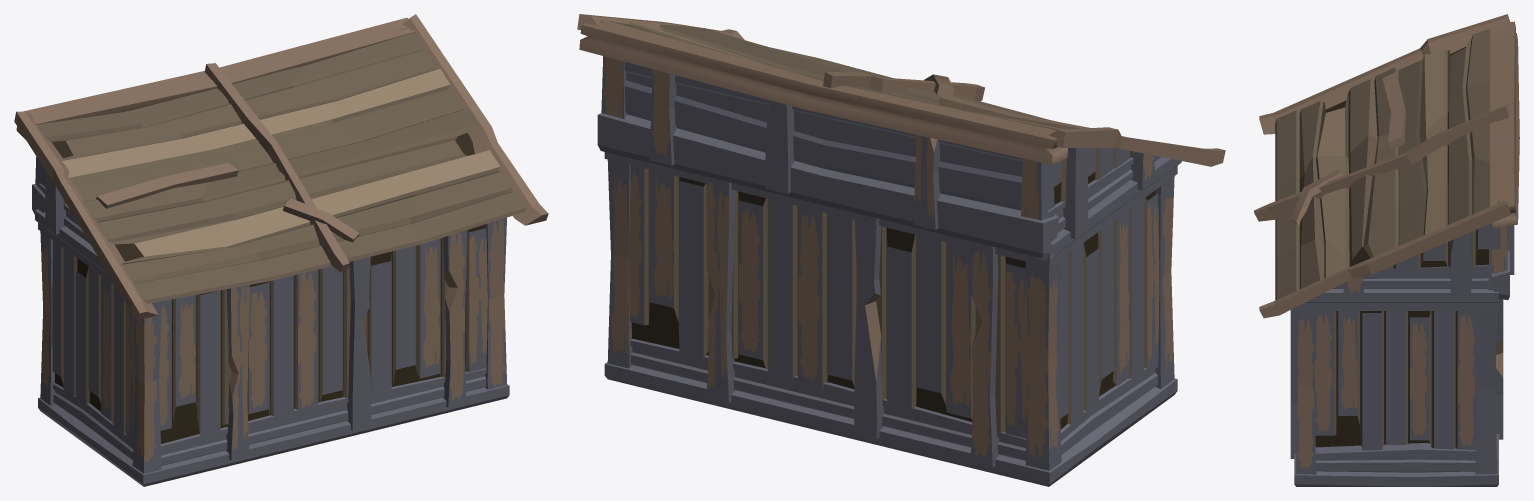
Rendered from SM_Bld_Shanty_SideAttachment_01.fbx.
3 views of the same model, side by side, from view 1: azimuth 30°, elevation 25°; view 2: azimuth 150°, elevation 25°; view 3: azimuth 270°, elevation 25° (orthographic). The views are drawn at different scales.
Visible parts, largest first — view 1: SM_Bld_Shanty_SideAttachment_01; view 2: SM_Bld_Shanty_SideAttachment_01; view 3: SM_Bld_Shanty_SideAttachment_01.
Boxes of the visible parts, left/top/right/bottom form: SM_Bld_Shanty_SideAttachment_01: left=14, top=14, right=548, bottom=486; SM_Bld_Shanty_SideAttachment_01: left=577, top=14, right=1225, bottom=486; SM_Bld_Shanty_SideAttachment_01: left=1254, top=14, right=1519, bottom=486.
Size of the model in its own units: 5.58 by 3.93 by 3.23.
